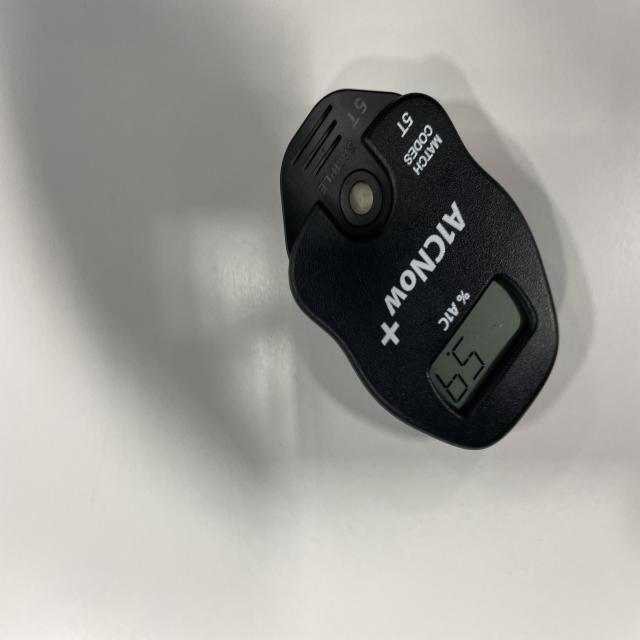hba1c: (279, 89, 562, 453)
